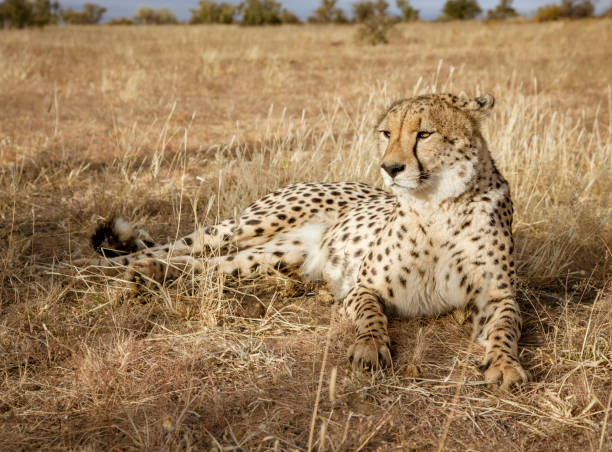cheetah: (343, 89, 497, 222)
